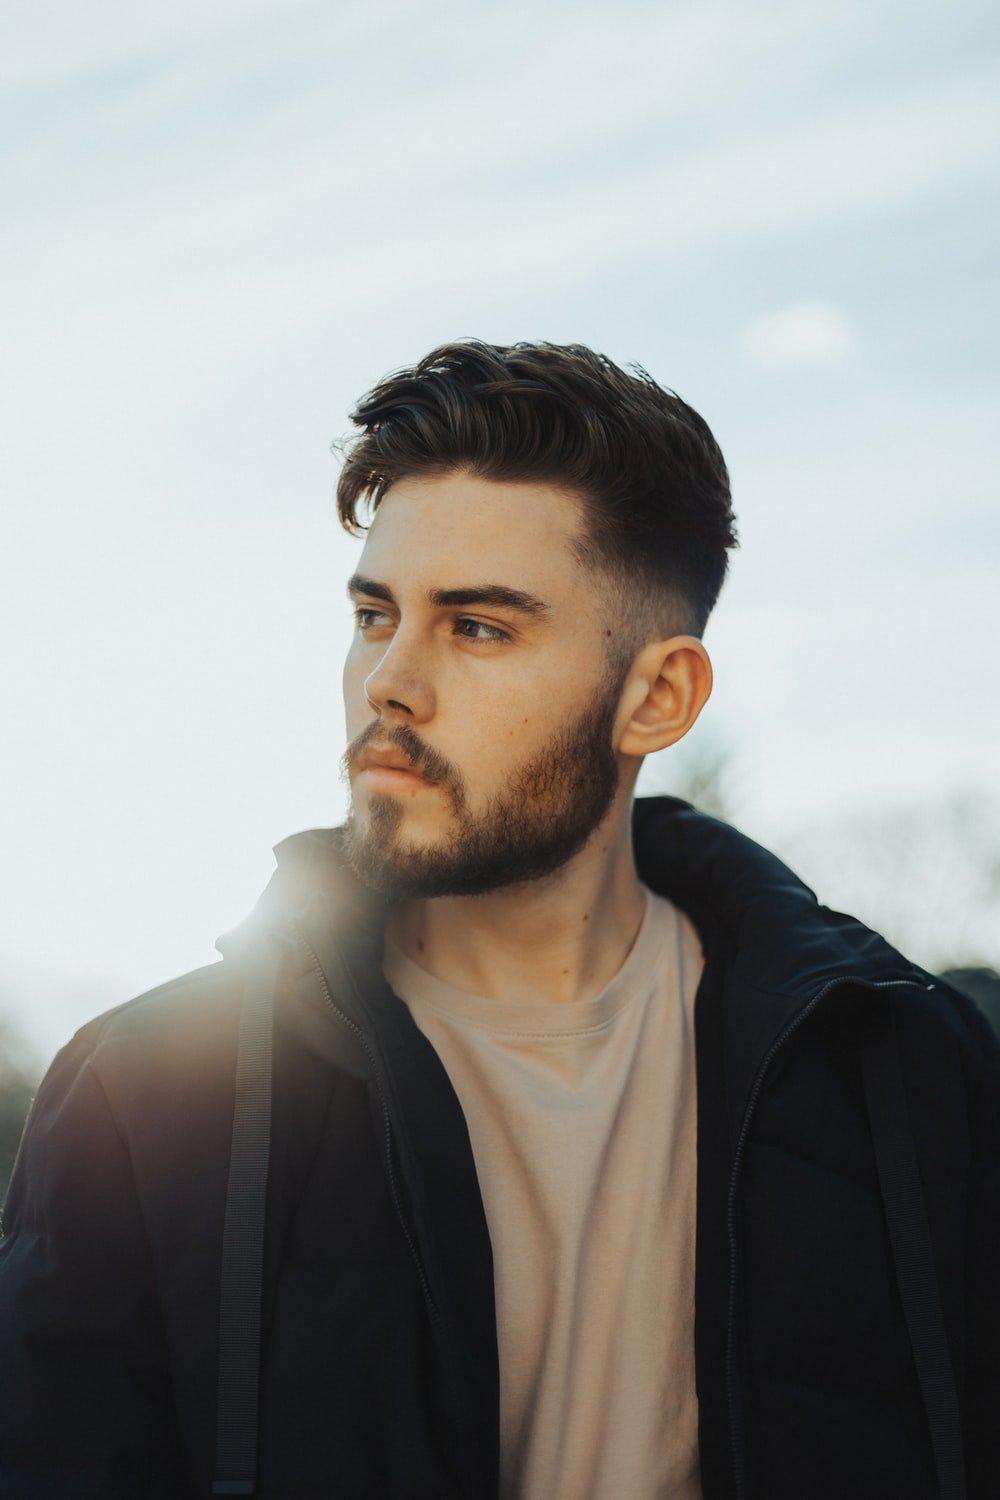Sober: (348, 494, 614, 857)
